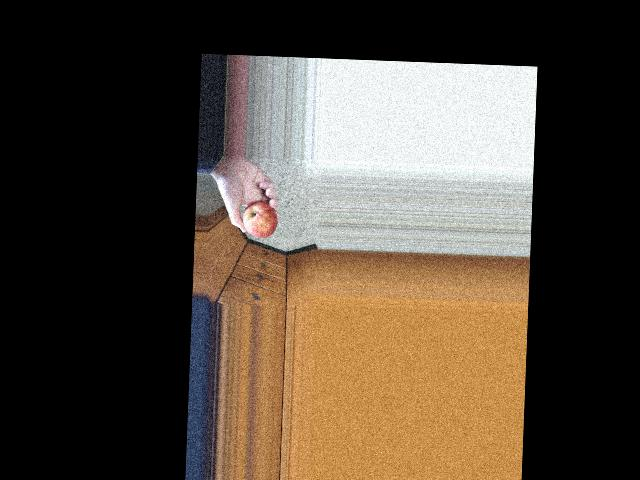apple: (235, 190, 278, 239)
